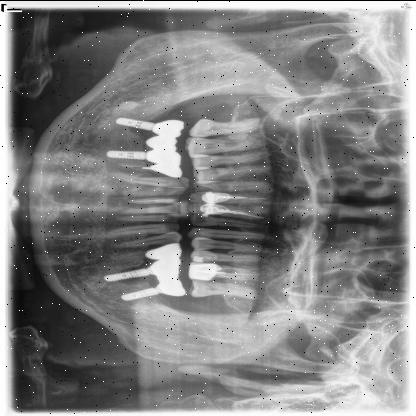ITI: (101, 265, 153, 283), (116, 284, 161, 303), (115, 115, 153, 130), (106, 148, 146, 160)
